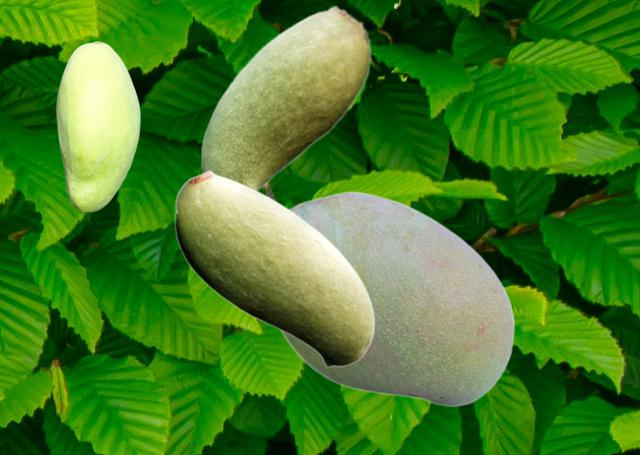green_mango: (279, 190, 514, 406), (174, 169, 374, 367), (200, 5, 370, 190), (56, 41, 139, 211)
